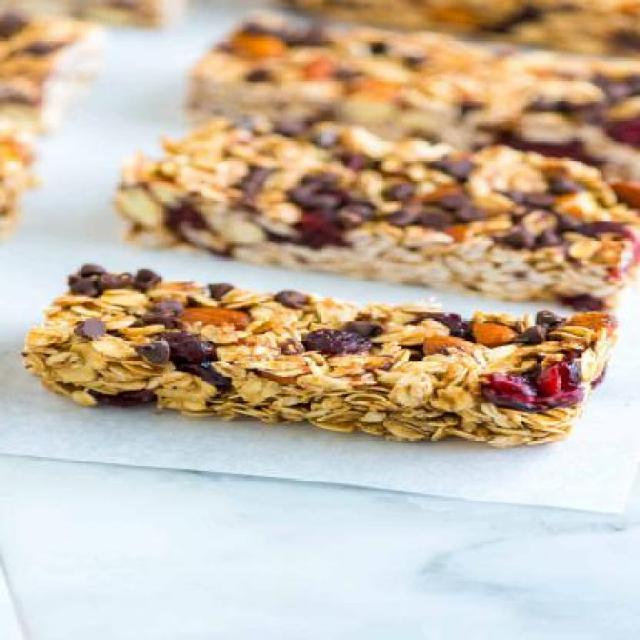Cereal bar packaged: (21, 272, 624, 457)
